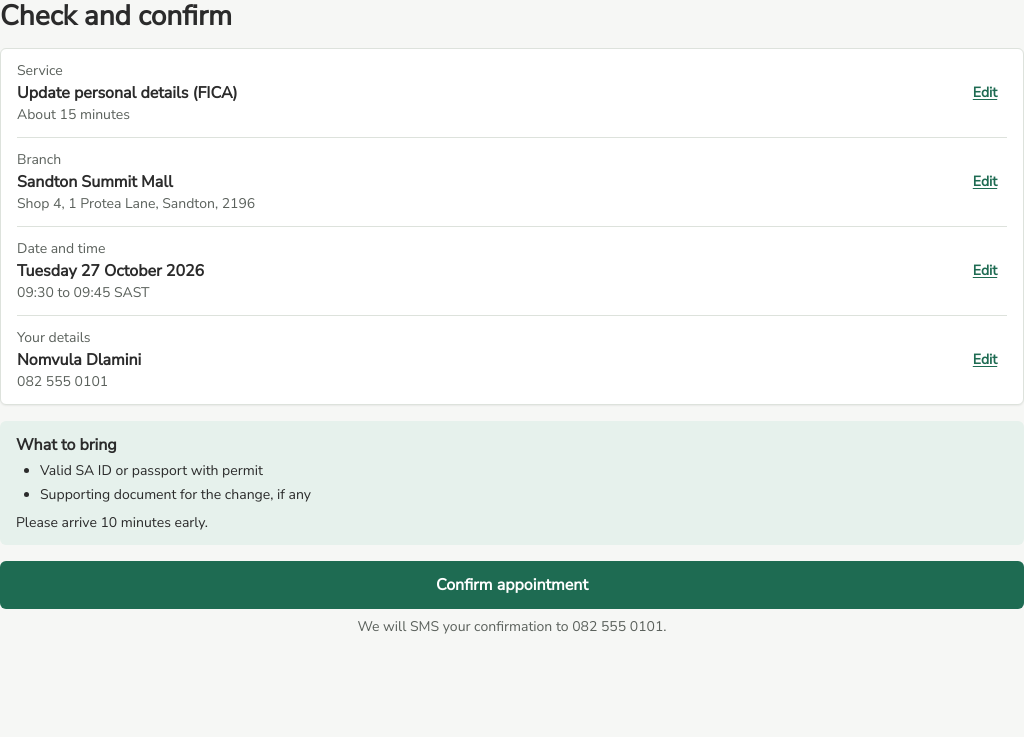
Test case: ReviewStep › sends DEMO_NUMBER_REQUIRED back to the cellphone field on the details step
Click the button "Confirm appointment" at coordinates (512, 585), box [0, 561, 1023, 609]
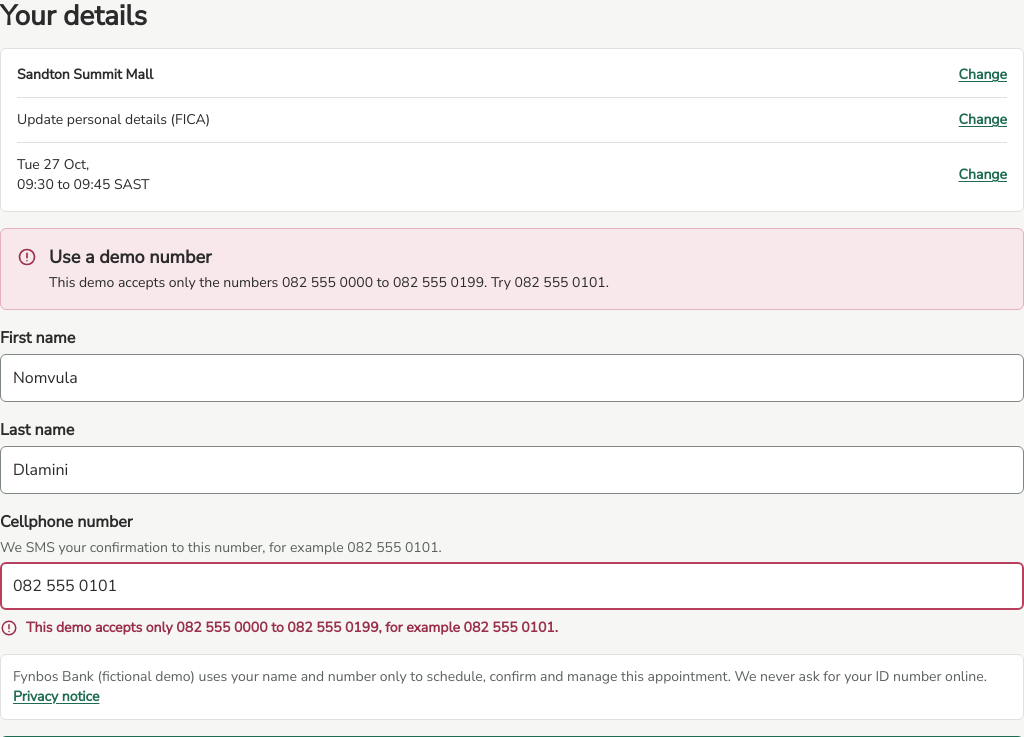
expect the message shows "Use a demo number": met, box [49, 245, 212, 269]
